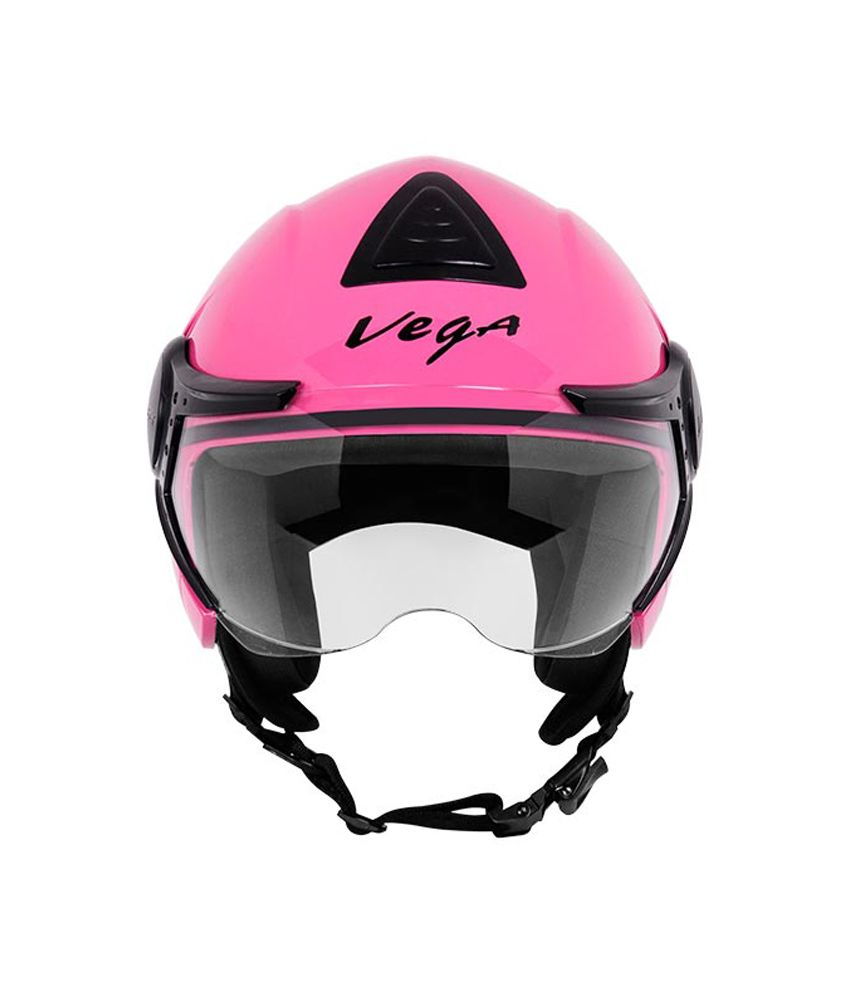helmet: (119, 114, 716, 884)
